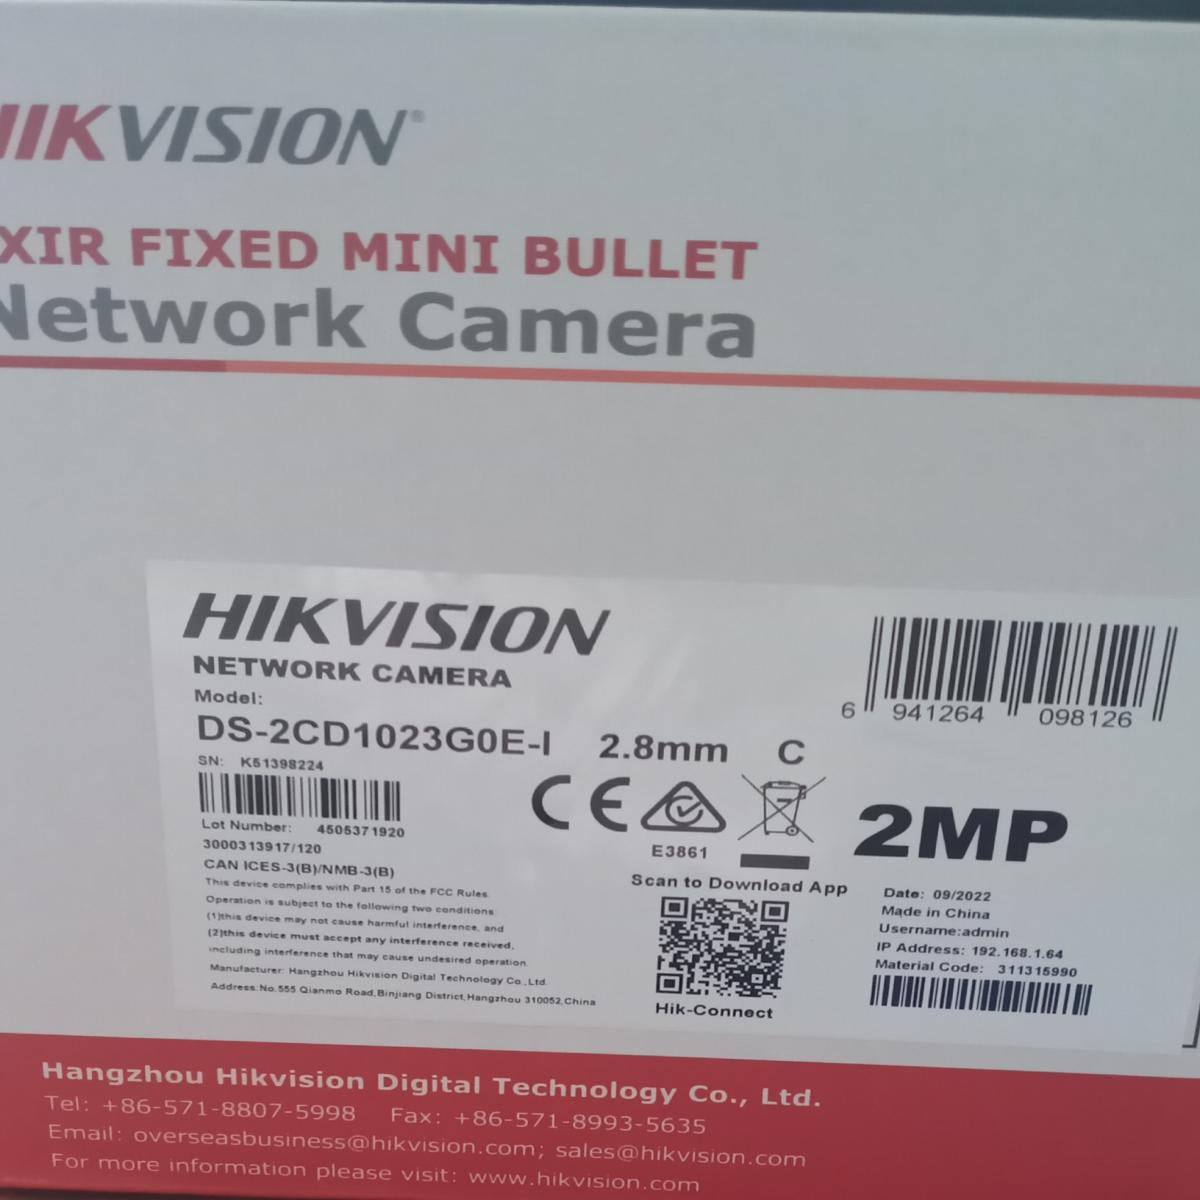Barcode: (187, 764, 425, 824)
Label: (151, 566, 1193, 1043)
